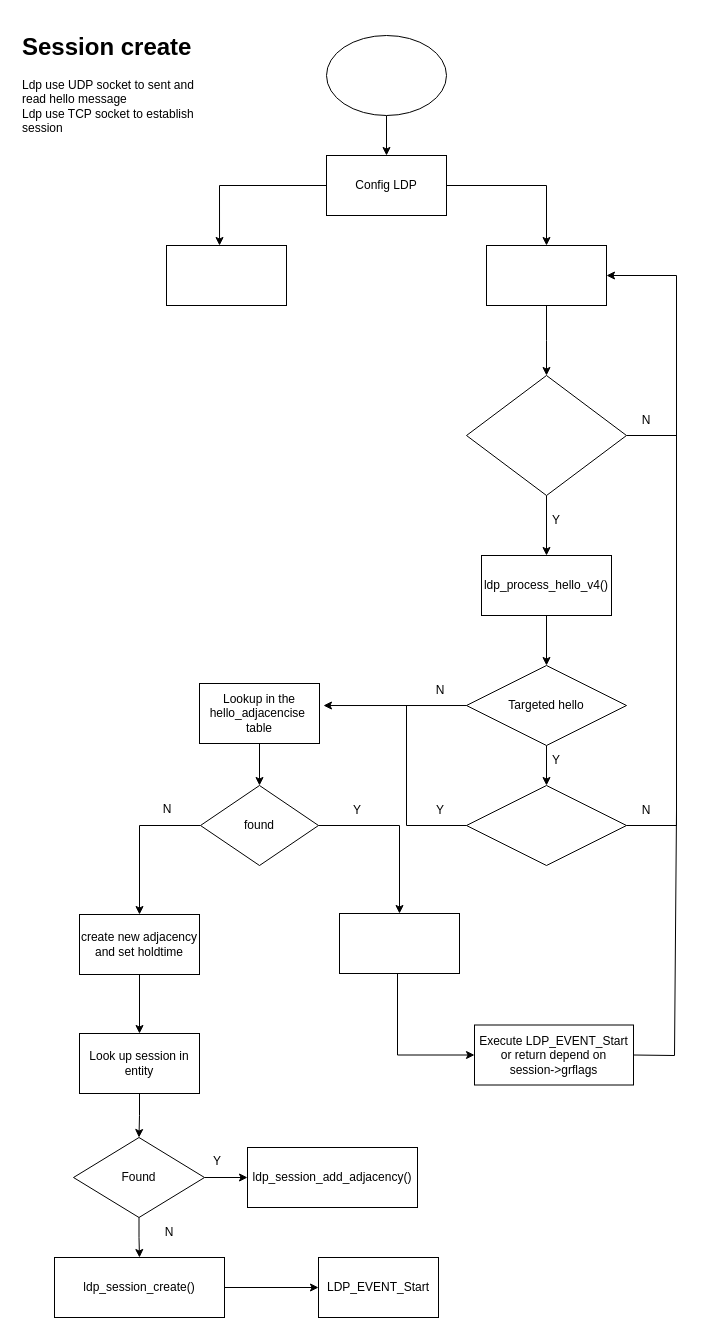
Image size: 702x1335. Some labels were removed from this diagram. Each missing label, with the box of its shape:
ldp is configured: (466, 784, 626, 866)
LDP UDP hello send: (166, 244, 286, 306)
LDP_MESSAGE_HELLO: (466, 374, 626, 496)
ldp_start(): (326, 34, 446, 116)
ldp_udp_read(): (486, 244, 606, 306)
Set holdtime: (338, 912, 460, 974)
